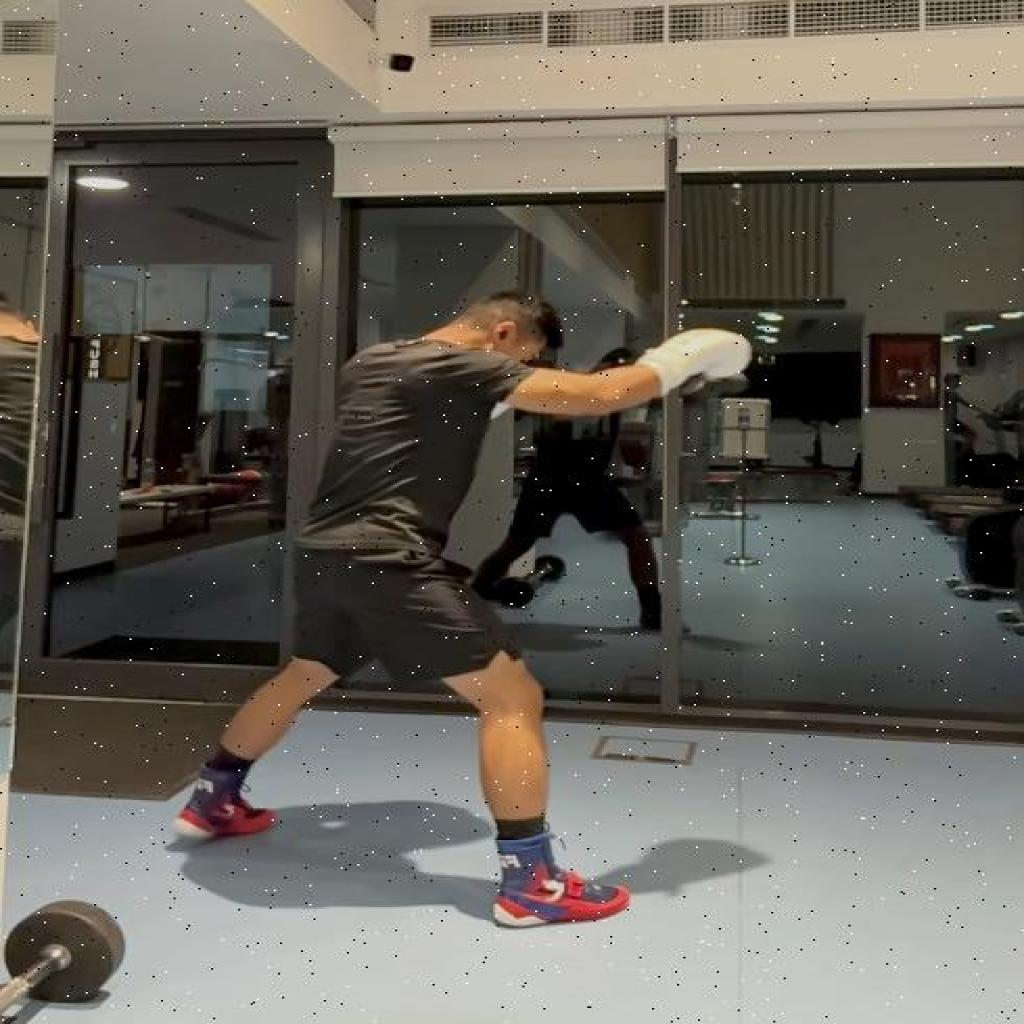jab: (172, 284, 754, 934)
